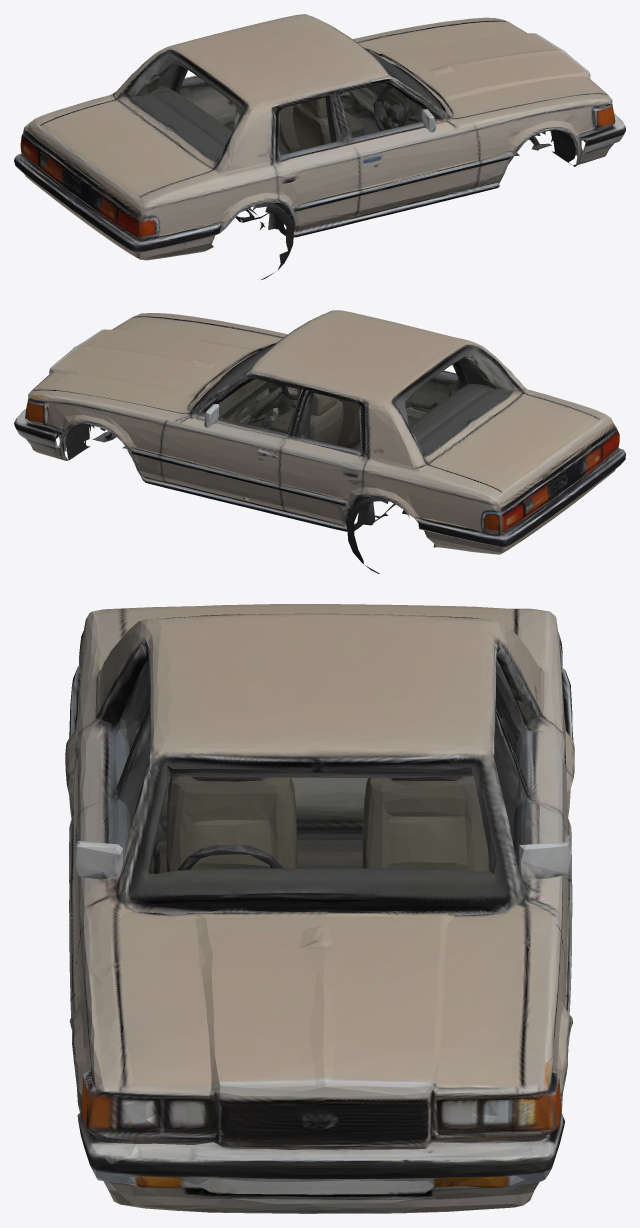
File: body.glb
3 renders of one model, top to bottom at view 1: azimuth 30°, elevation 25°; view 2: azimuth 150°, elevation 25°; view 3: azimuth 270°, elevation 25°, orthographic. The views are drawn at different scales.
Visible parts, largest first — view 1: tripo_node_508ca996-186f-4bbb-bdbf-a2ca9cf5d0a2; view 2: tripo_node_508ca996-186f-4bbb-bdbf-a2ca9cf5d0a2; view 3: tripo_node_508ca996-186f-4bbb-bdbf-a2ca9cf5d0a2.
Boxes of the visible parts, x1,y1,x2,y2 form: tripo_node_508ca996-186f-4bbb-bdbf-a2ca9cf5d0a2: [14, 14, 625, 279]; tripo_node_508ca996-186f-4bbb-bdbf-a2ca9cf5d0a2: [14, 310, 625, 573]; tripo_node_508ca996-186f-4bbb-bdbf-a2ca9cf5d0a2: [65, 604, 574, 1213].
Bounding box in the file's own units: 4.7 × 1.44 × 2.05.
1 material, 1 textured.
